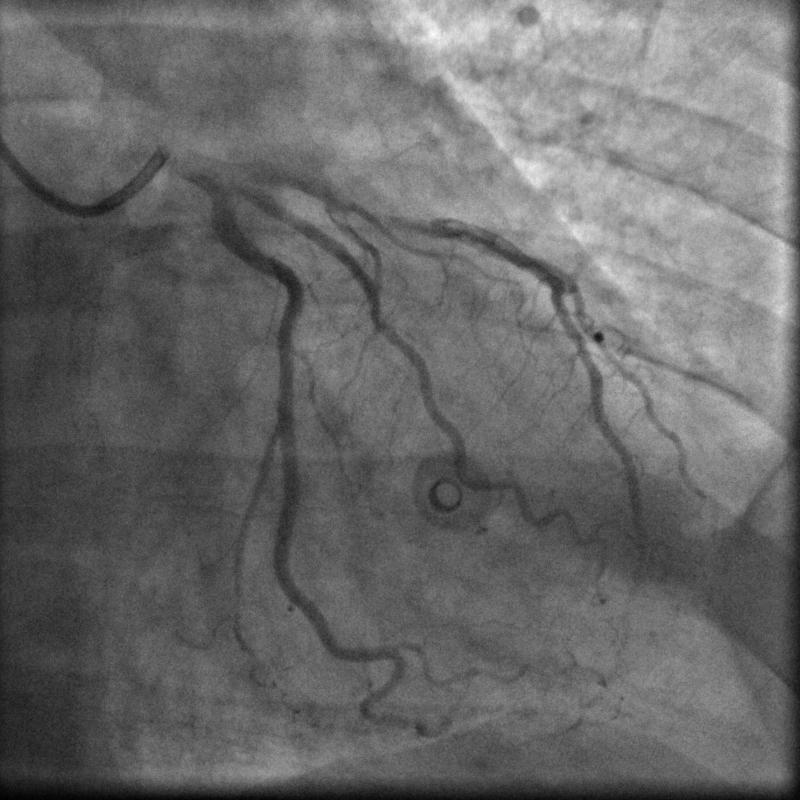Stenosis: (369, 206, 440, 239)
